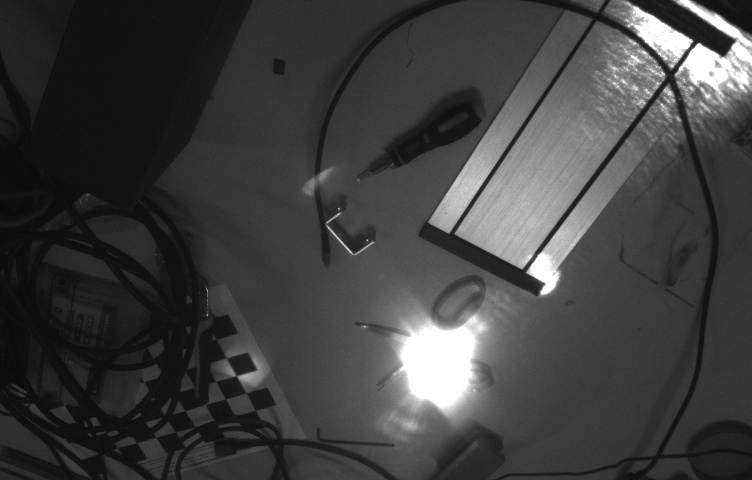Object retractable gel pen - Material rubber - Pdfname asdasdaswe: (402, 336, 476, 393)
